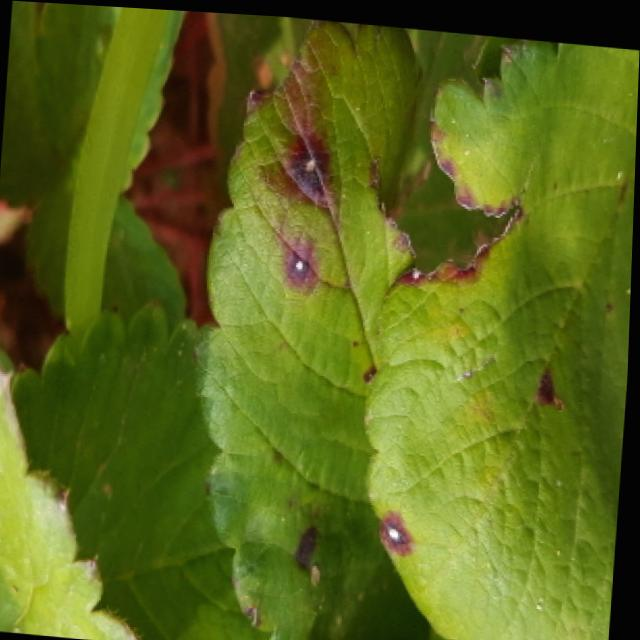Leaf Spot: (365, 31, 640, 640), (198, 15, 433, 640)
